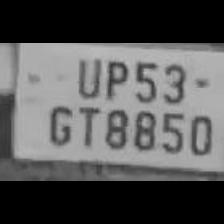0: (184, 109, 214, 155)
3: (158, 58, 188, 106)
5: (127, 56, 159, 102), (156, 108, 186, 154)
8: (100, 103, 128, 151), (130, 104, 156, 152)
G: (44, 98, 74, 146)
P: (100, 55, 128, 101)
T: (74, 101, 100, 149)
U: (71, 53, 101, 99)
